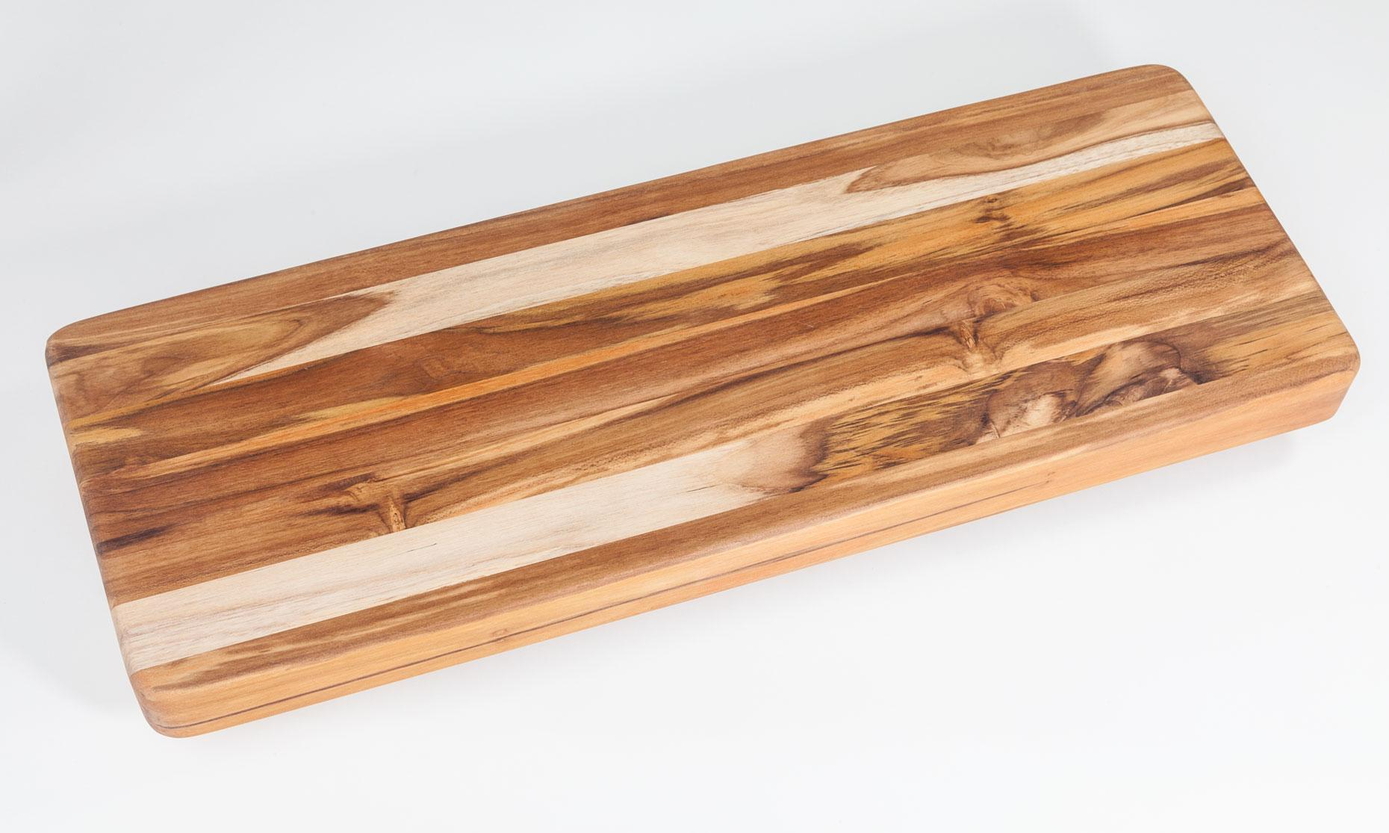gloved_hand: (41, 58, 1364, 740)
